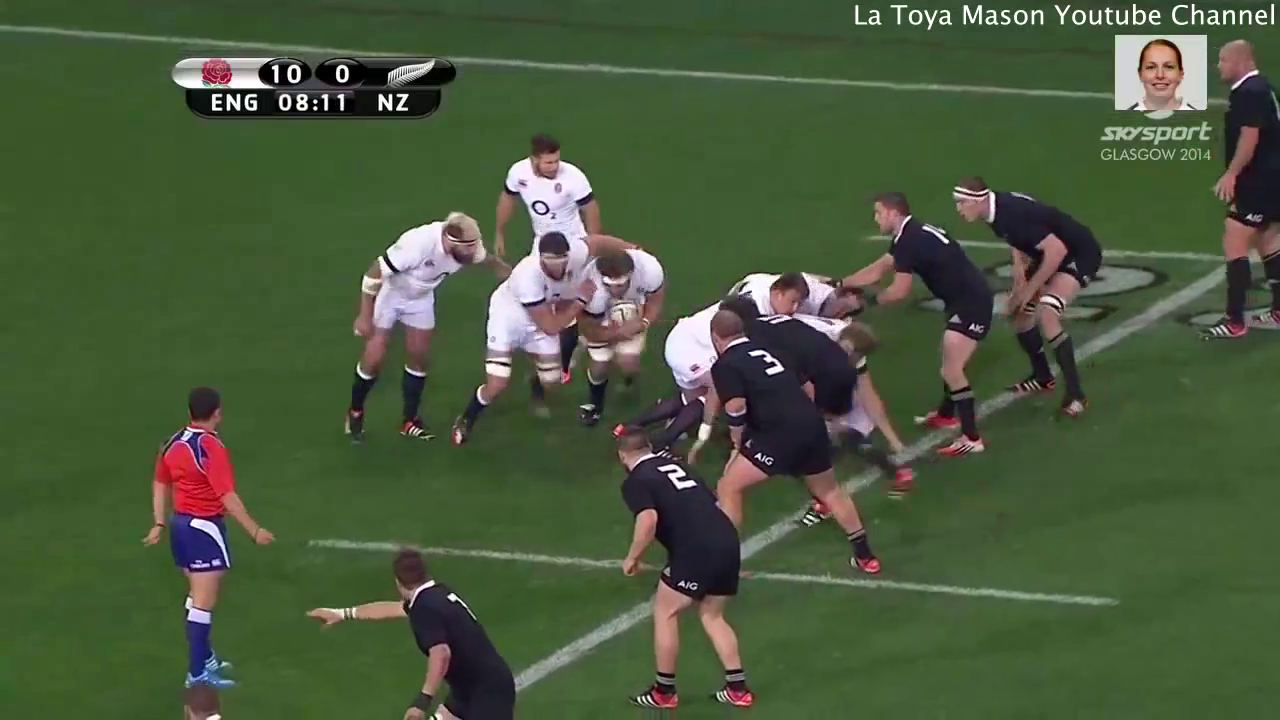ball: (597, 285, 648, 342)
player: (133, 386, 281, 720), (698, 313, 882, 576), (829, 188, 997, 459), (612, 426, 764, 711), (946, 176, 1108, 431), (305, 550, 536, 720), (328, 208, 483, 457), (446, 228, 583, 445), (1198, 32, 1280, 348), (569, 245, 668, 428), (486, 136, 613, 235)
ruck: (640, 240, 918, 460)
